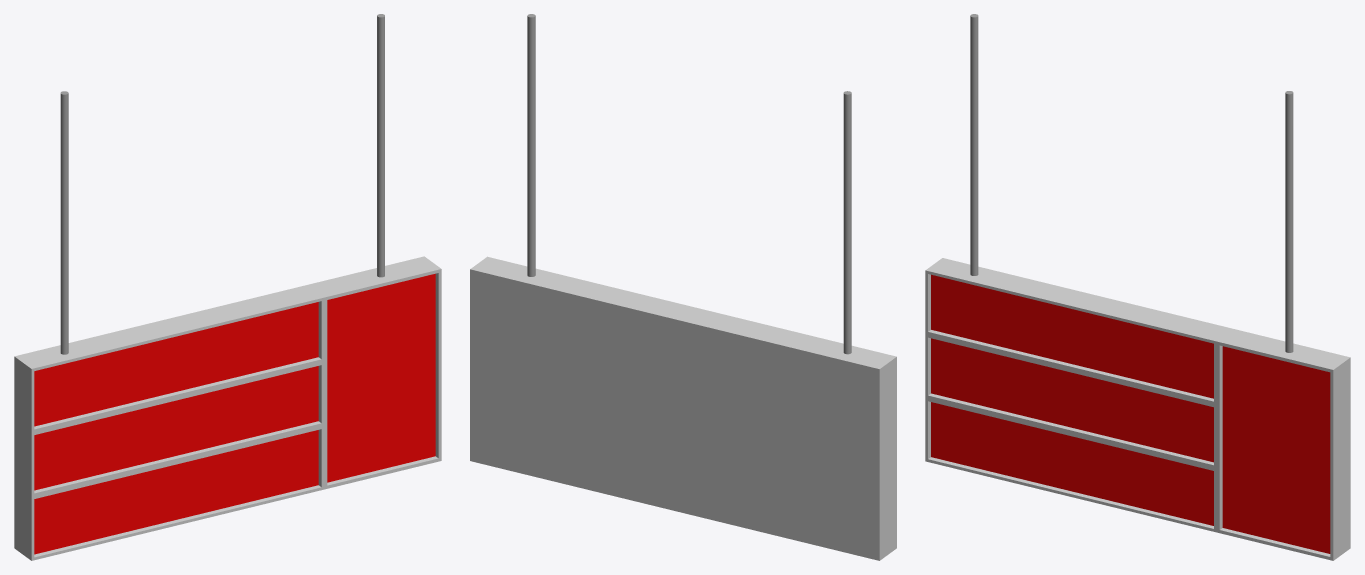
File: aisle-sign.fbx
3 views of the same model, side by side, from view 1: azimuth 30°, elevation 25°; view 2: azimuth 150°, elevation 25°; view 3: azimuth 330°, elevation 25° (orthographic).
Visible parts, largest first — view 1: Sign, Rope, Rope1; view 2: Sign, Rope, Rope1; view 3: Sign, Rope, Rope1.
Boxes of the visible parts, left/top/right/bottom form: Sign: left=14, top=256, right=441, bottom=560; Rope: left=60, top=91, right=68, bottom=354; Rope1: left=377, top=14, right=384, bottom=277; Sign: left=470, top=256, right=896, bottom=560; Rope: left=843, top=91, right=851, bottom=354; Rope1: left=527, top=14, right=535, bottom=276; Sign: left=925, top=258, right=1350, bottom=560; Rope: left=970, top=14, right=978, bottom=275; Rope1: left=1285, top=91, right=1293, bottom=352.
Bounding box in the file's own units: 1.2 × 1.26 × 0.0873.
